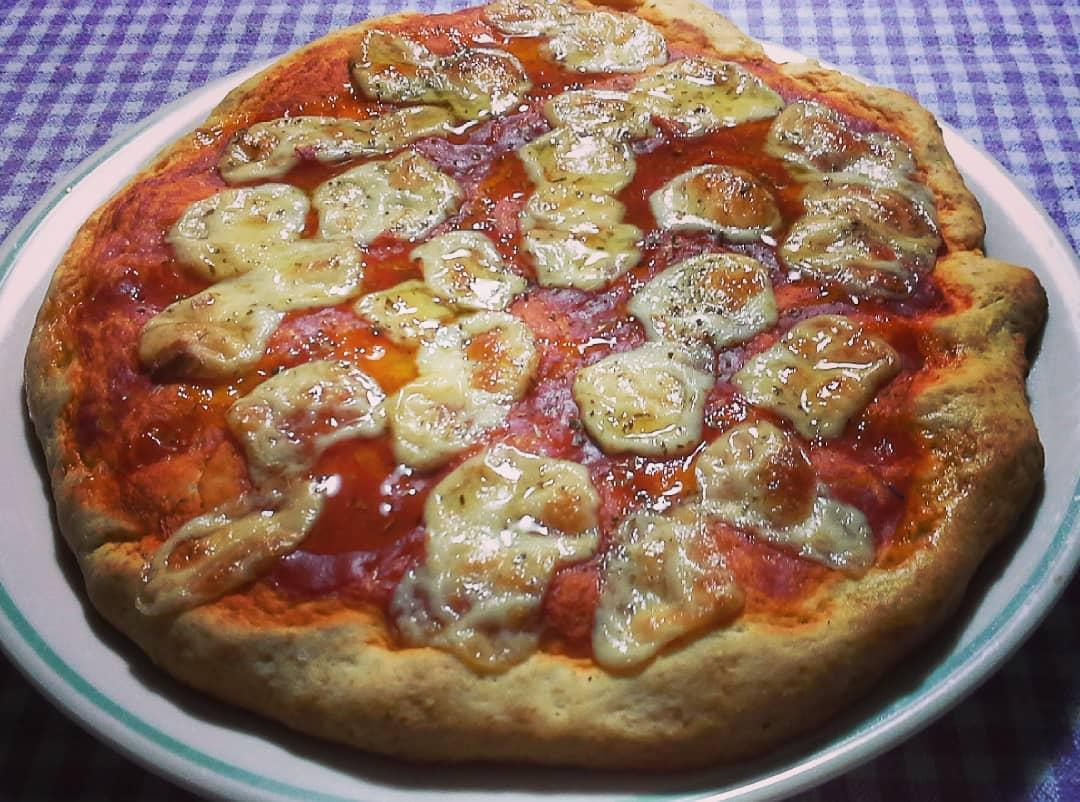Cheese: (163, 195, 337, 349), (430, 467, 582, 618), (808, 108, 911, 280), (161, 490, 304, 598), (405, 326, 521, 447), (607, 516, 709, 652), (542, 102, 622, 273), (250, 364, 373, 446), (709, 440, 814, 536), (245, 111, 440, 162), (654, 265, 753, 354), (596, 353, 695, 433), (758, 335, 867, 401), (338, 163, 434, 237), (623, 70, 753, 123), (371, 54, 507, 99), (673, 173, 760, 226), (500, 0, 584, 30)
Pizza: (21, 0, 1047, 772)
